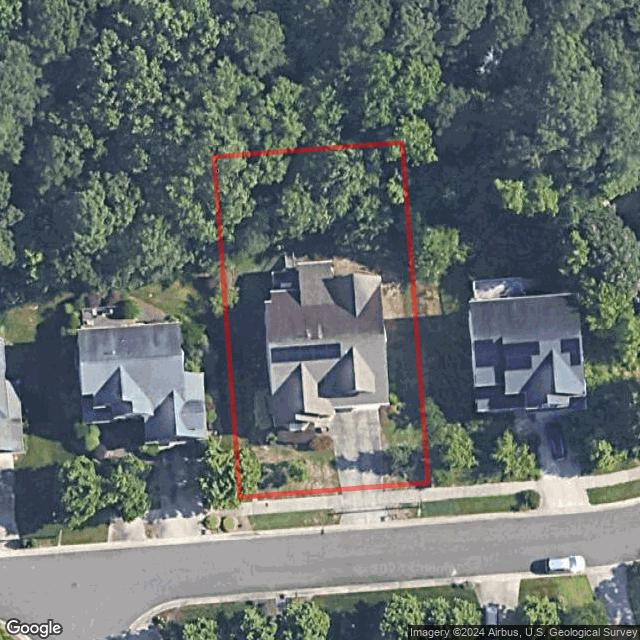Driveway: (328, 408, 387, 490)
Extra-Driveway: (340, 487, 386, 524)
Extra-Lawn: (246, 509, 343, 531), (240, 489, 344, 503), (381, 500, 433, 522), (387, 482, 430, 492)
Extra-Sidewalk: (241, 495, 342, 518), (383, 489, 431, 508)
House: (264, 258, 391, 430)
Lawn: (214, 141, 430, 498)
Other: (214, 141, 411, 259), (250, 390, 332, 450), (254, 460, 305, 492), (271, 247, 299, 290)
